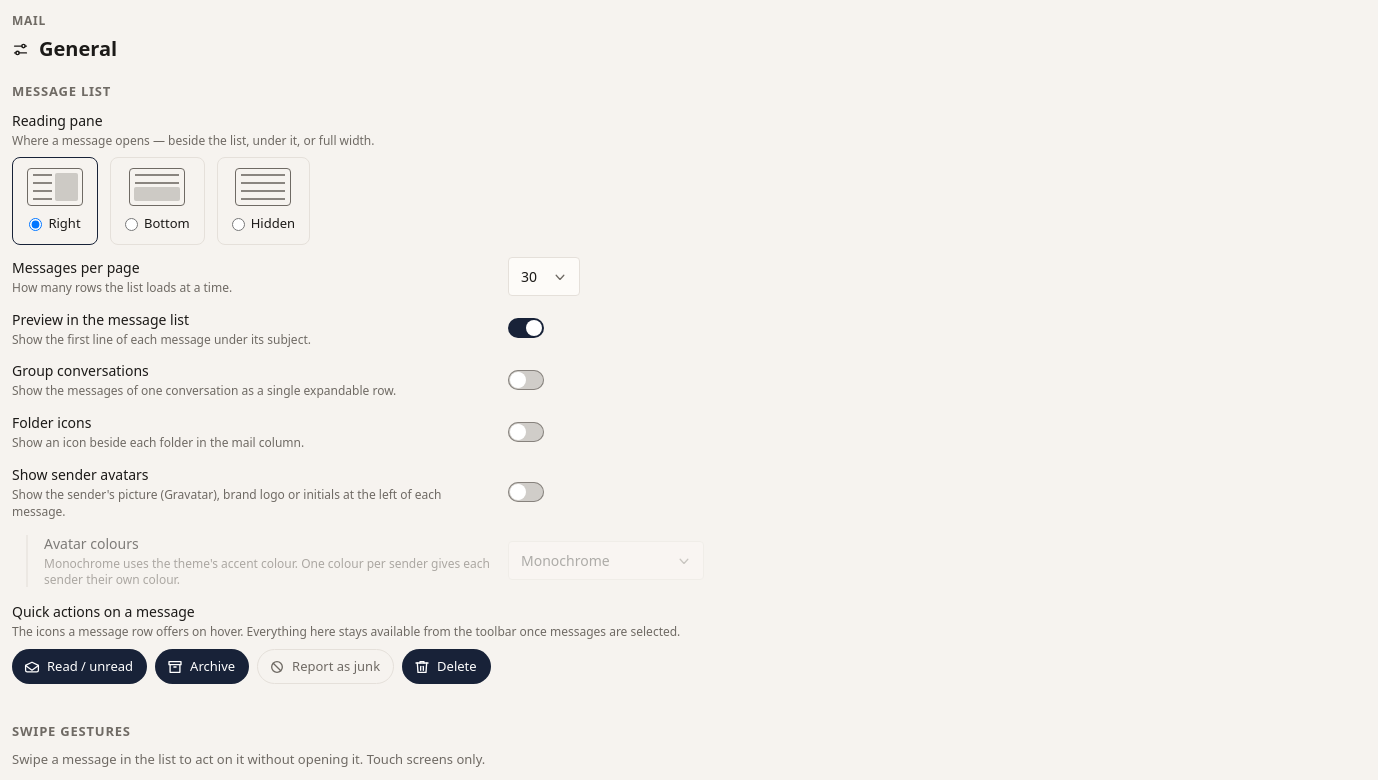
Scenario: MailGeneralPage › surfaces a failure to save instead of pretending
Step 1. Click the dropdown named "Messages per page" → (544, 277), box top-left (508, 257), bottom-right (580, 296)
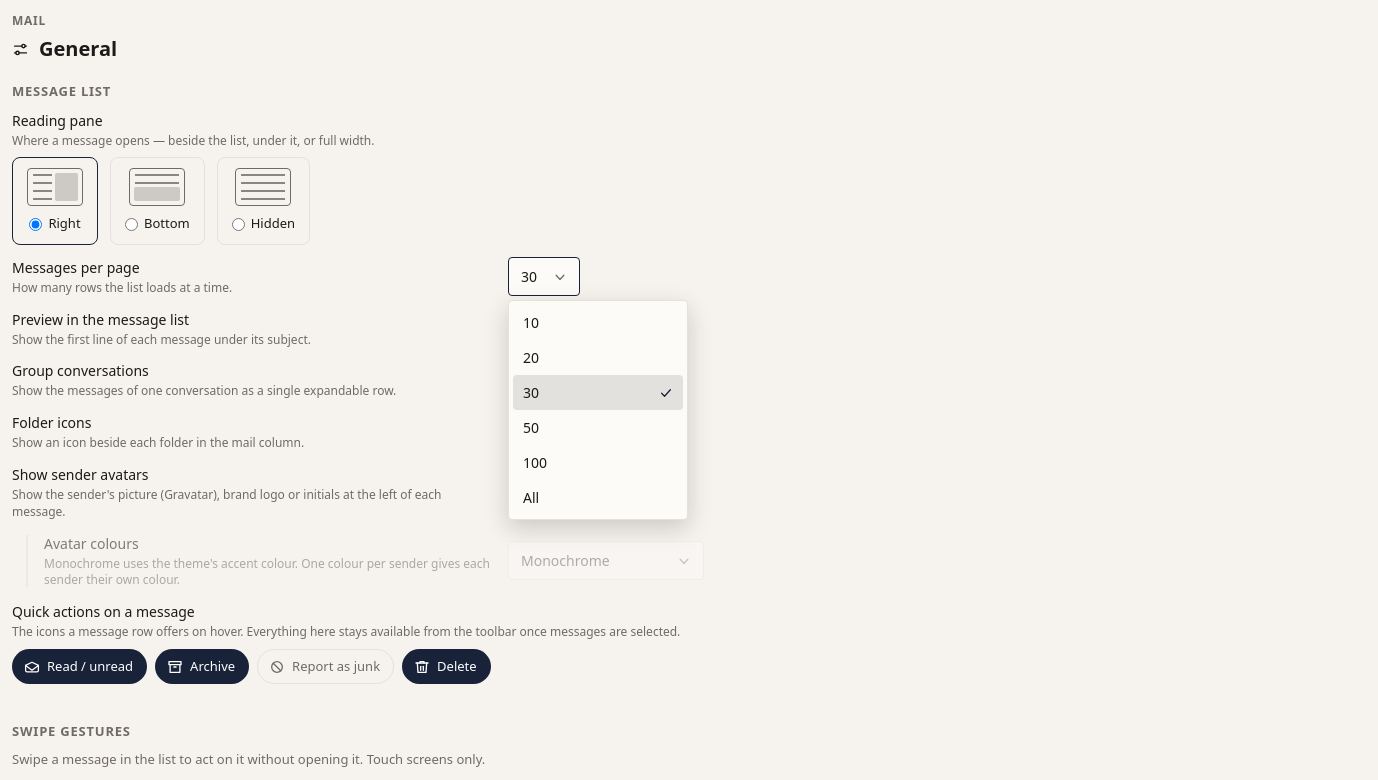
Step 2. Click the option "10" → (531, 323), box top-left (523, 313), bottom-right (539, 332)
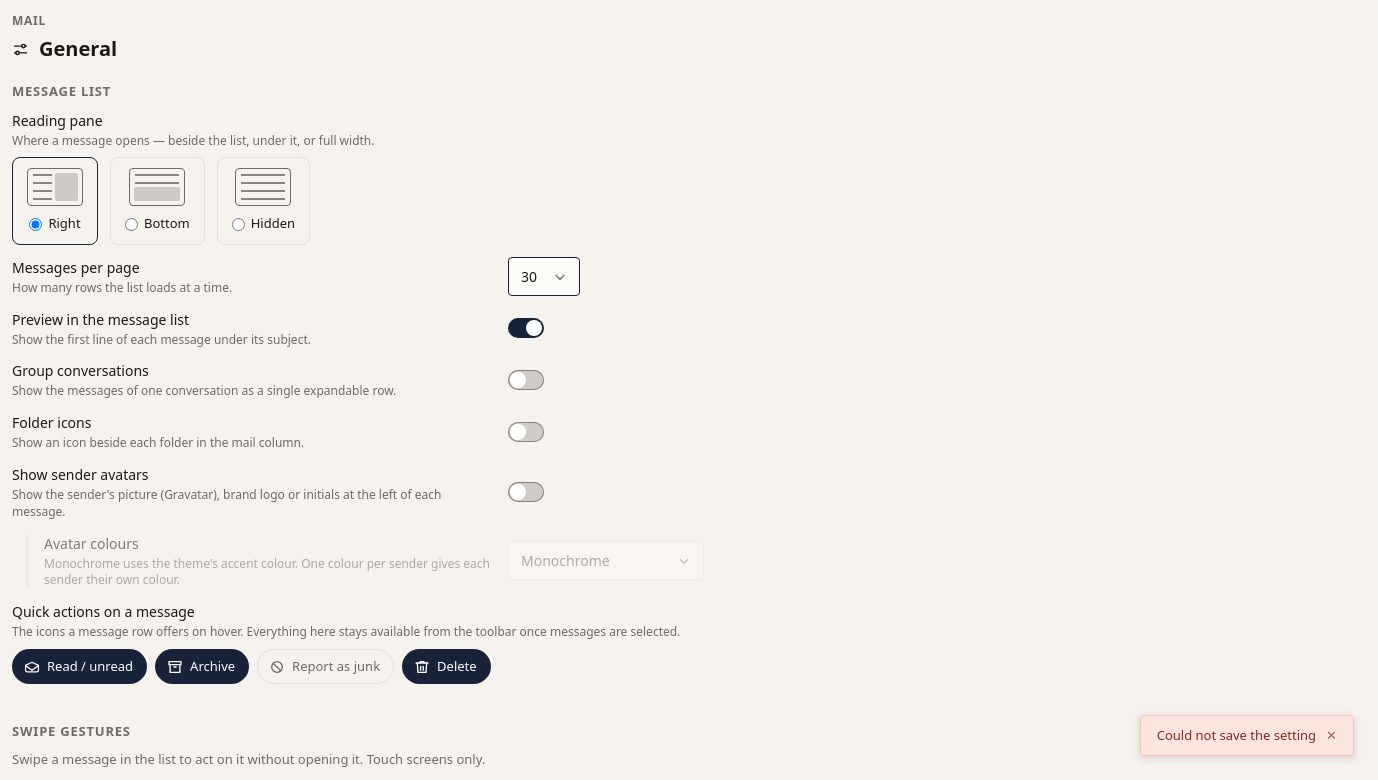
Now the text "Could not save the setting" is shown, box top-left (1157, 726), bottom-right (1316, 745)
